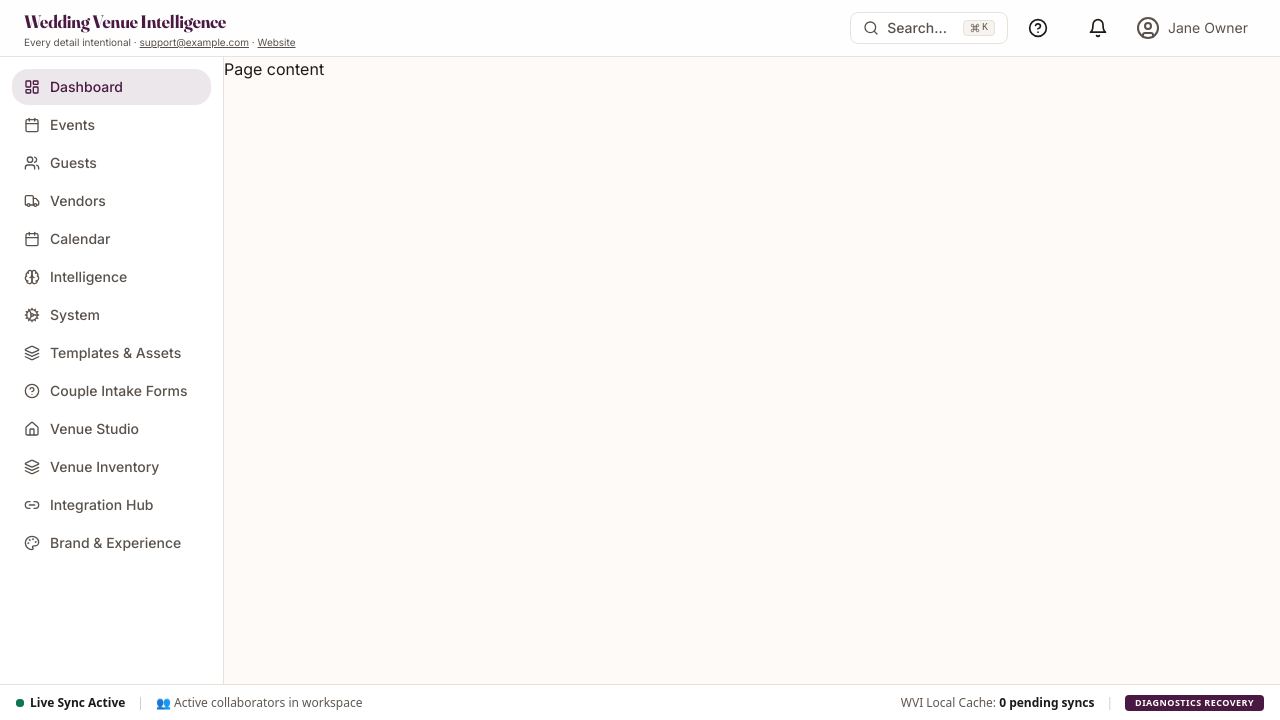
Test: AppShell › Escape closes the user menu
This screenshot has width=1280, height=720.
Click the button with aria-label "user menu for jane owner" at point(1192, 28), box 1128,10 -> 1256,46
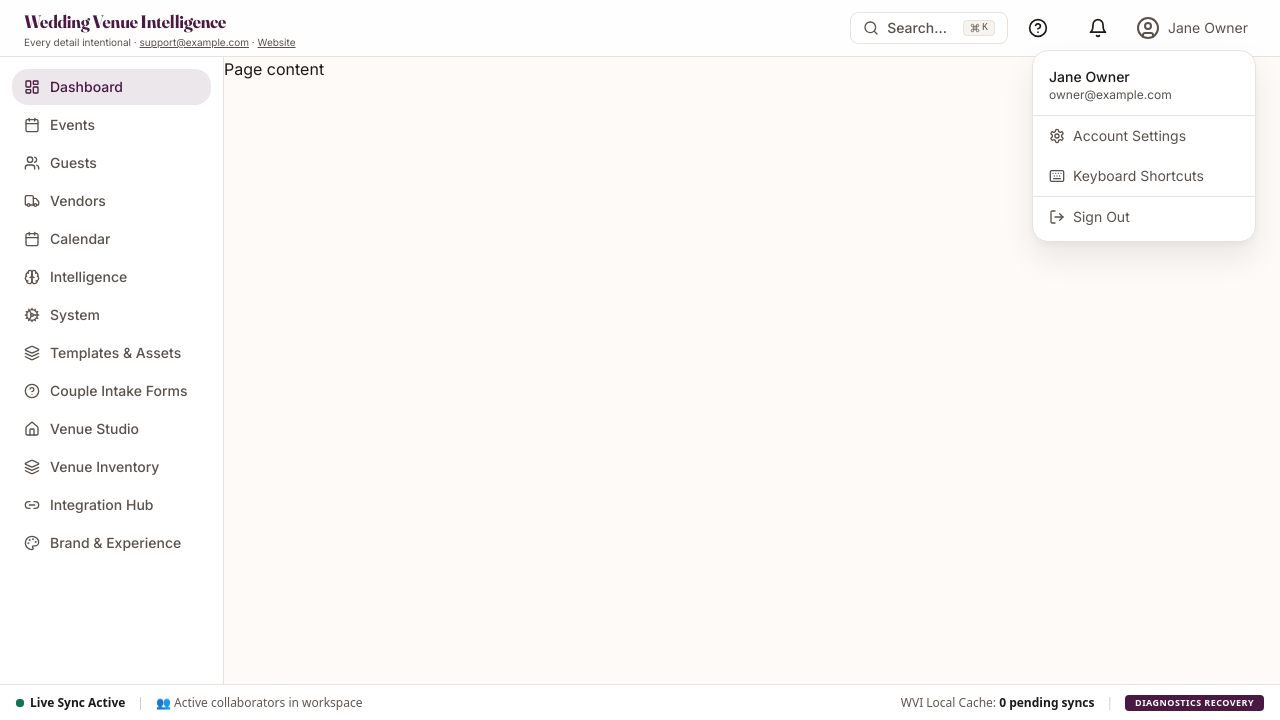
Check: the menu is shown, box 1032,50 -> 1256,242
Press Escape
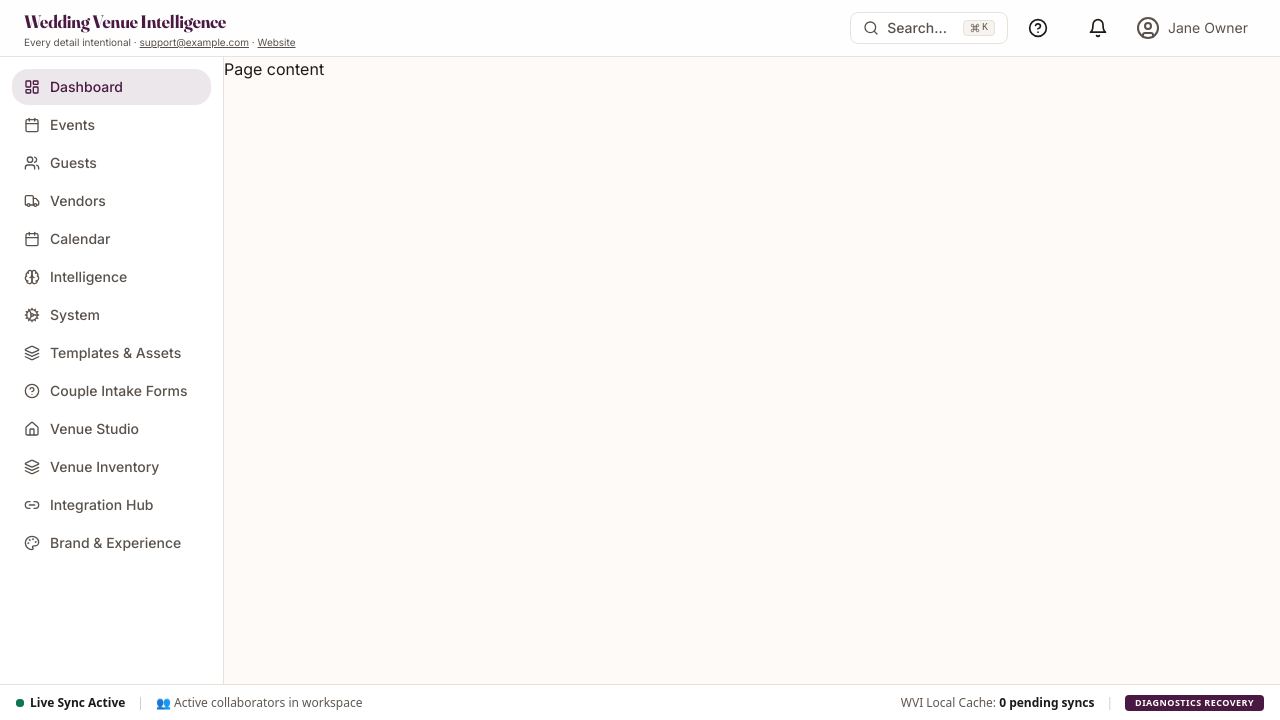
Check: the menu is gone
